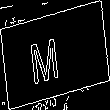M_N: (38, 26, 72, 84)
